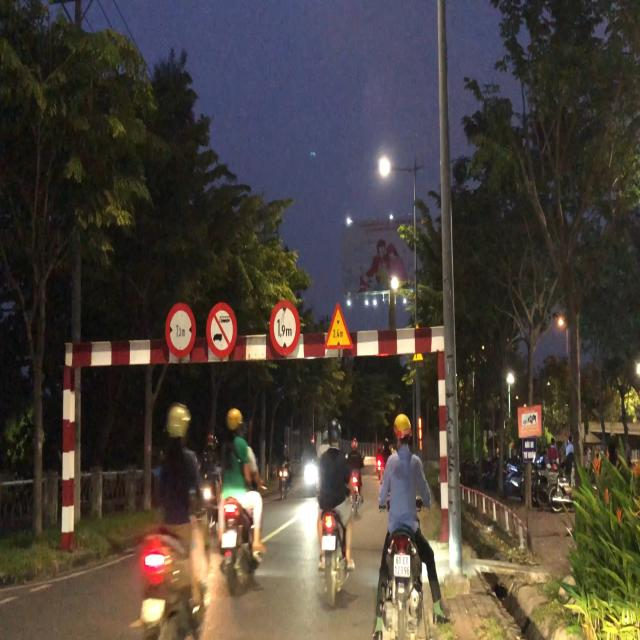Bien bao cam xe oto khach va xe oto tai: (205, 294, 241, 362)
Bien bao chieu cao tinh khong thuc te: (320, 297, 356, 353)
Bien bao han che chieu cao: (266, 293, 301, 359)
